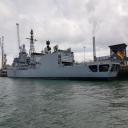Fragata: (7, 29, 123, 83)
